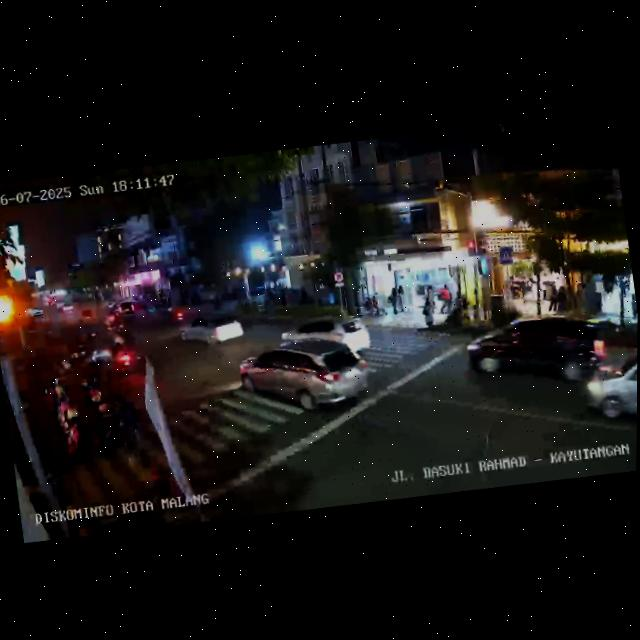car: (462, 307, 615, 400), (236, 328, 379, 427), (577, 348, 638, 442), (177, 307, 248, 355), (109, 298, 137, 319)
motorcycle: (110, 312, 137, 348)
person: (114, 392, 150, 470), (419, 295, 436, 331), (437, 283, 453, 315), (545, 283, 561, 312), (386, 286, 400, 316), (627, 285, 638, 321), (557, 282, 570, 312)
